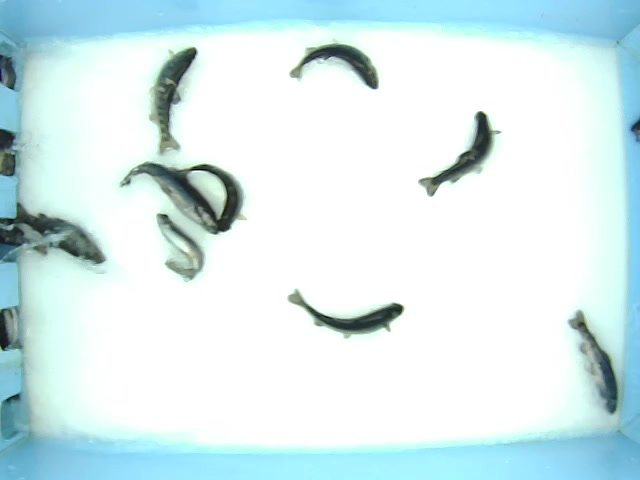fish: (119, 160, 220, 237), (416, 110, 502, 199), (284, 287, 405, 338), (147, 44, 201, 157), (15, 206, 108, 268), (566, 308, 618, 417), (289, 38, 379, 94), (177, 164, 249, 232), (151, 207, 208, 281)
